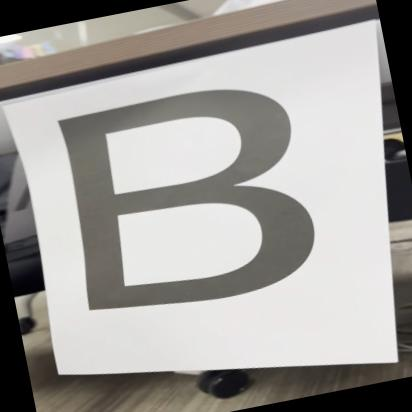seat: (32, 69, 325, 338)
